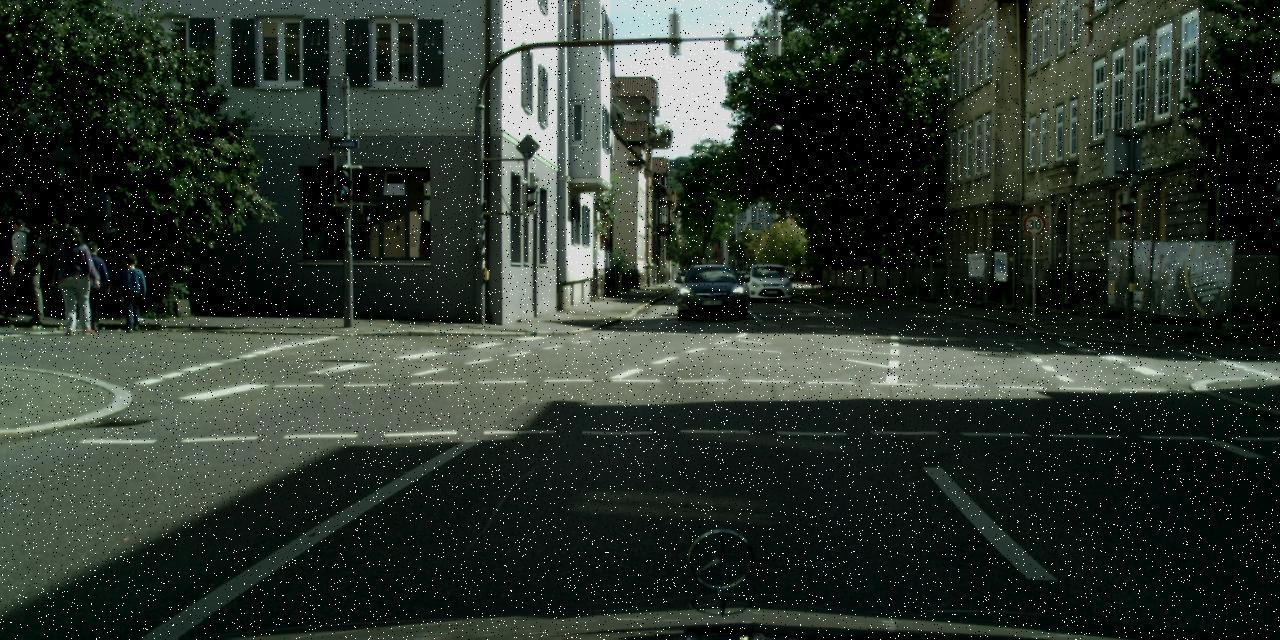ped: (53, 224, 98, 334), (0, 218, 39, 320), (72, 240, 108, 329), (116, 252, 148, 331)
